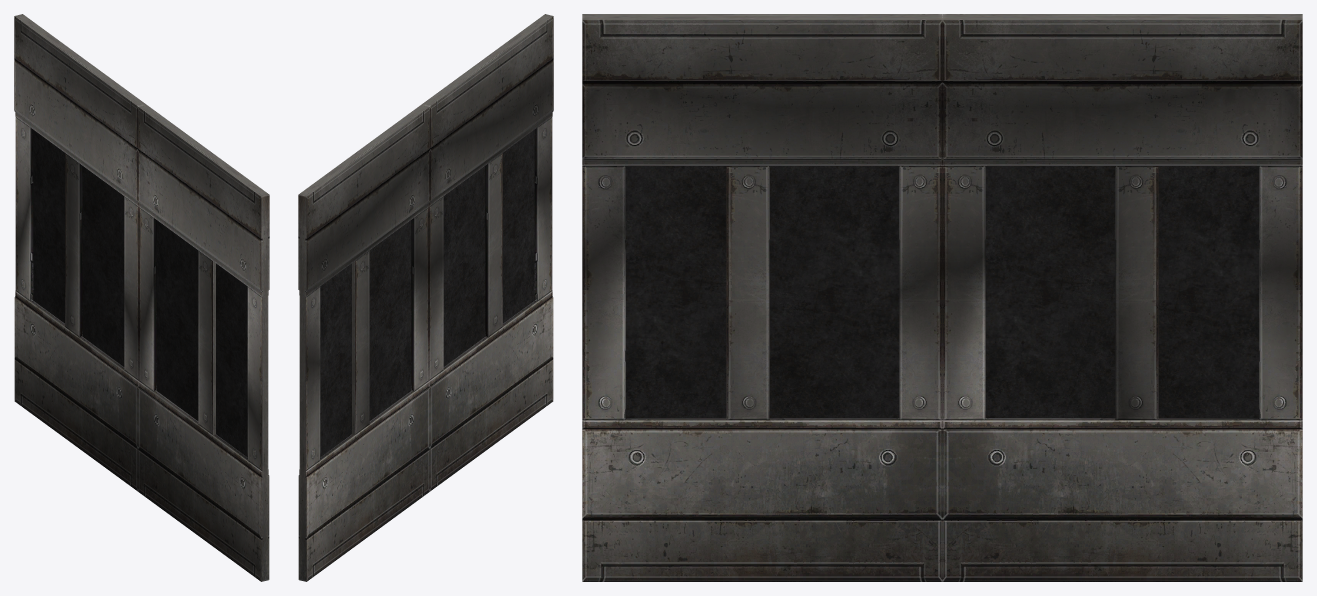
The model's file is 02_06_elevator_rear.dae.
3 views of the same model, side by side, from view 1: azimuth 30°, elevation 25°; view 2: azimuth 150°, elevation 25°; view 3: azimuth 270°, elevation 25° (orthographic). The views are drawn at different scales.
Visible parts, largest first — view 1: door_part_left_rear__2_, door_part_right_rear__2_, glass__3_, glass__2_; view 2: door_part_right_rear__2_, door_part_left_rear__2_, glass__2_, glass__3_; view 3: door_part_left_rear__2_, door_part_right_rear__2_, glass__3_, glass__2_.
Part boxes in pixels (<box>): door_part_left_rear__2_: <box>137,104,269,581</box>; door_part_right_rear__2_: <box>14,14,145,491</box>; glass__3_: <box>156,220,247,457</box>; glass__2_: <box>33,130,124,366</box>; door_part_right_rear__2_: <box>298,104,430,581</box>; door_part_left_rear__2_: <box>422,14,553,491</box>; glass__2_: <box>320,220,411,457</box>; glass__3_: <box>443,130,534,366</box>; door_part_left_rear__2_: <box>582,14,942,581</box>; door_part_right_rear__2_: <box>942,14,1302,581</box>; glass__3_: <box>625,166,899,417</box>; glass__2_: <box>985,166,1259,417</box>.
Size of the model in its own units: 0.069 by 3 by 3.49.
